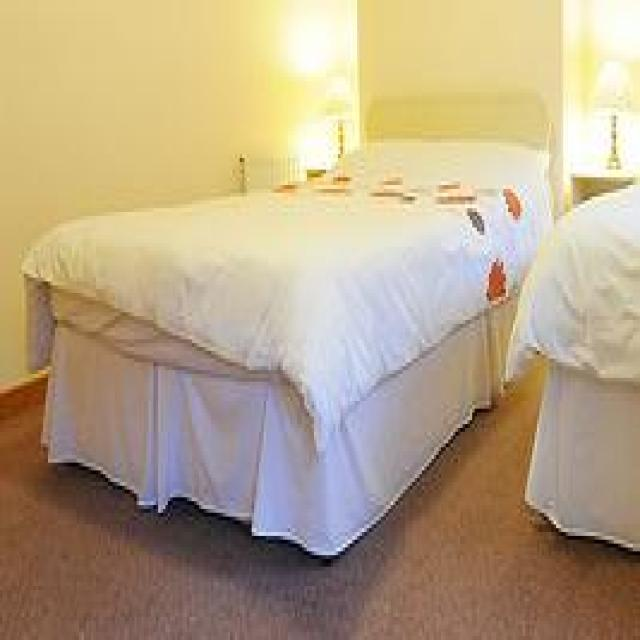bed: (22, 86, 554, 563)
